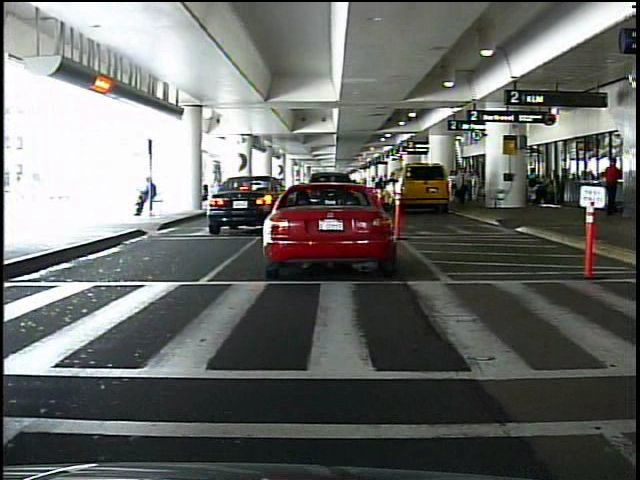person: (619, 148, 637, 306), (605, 156, 623, 216)
